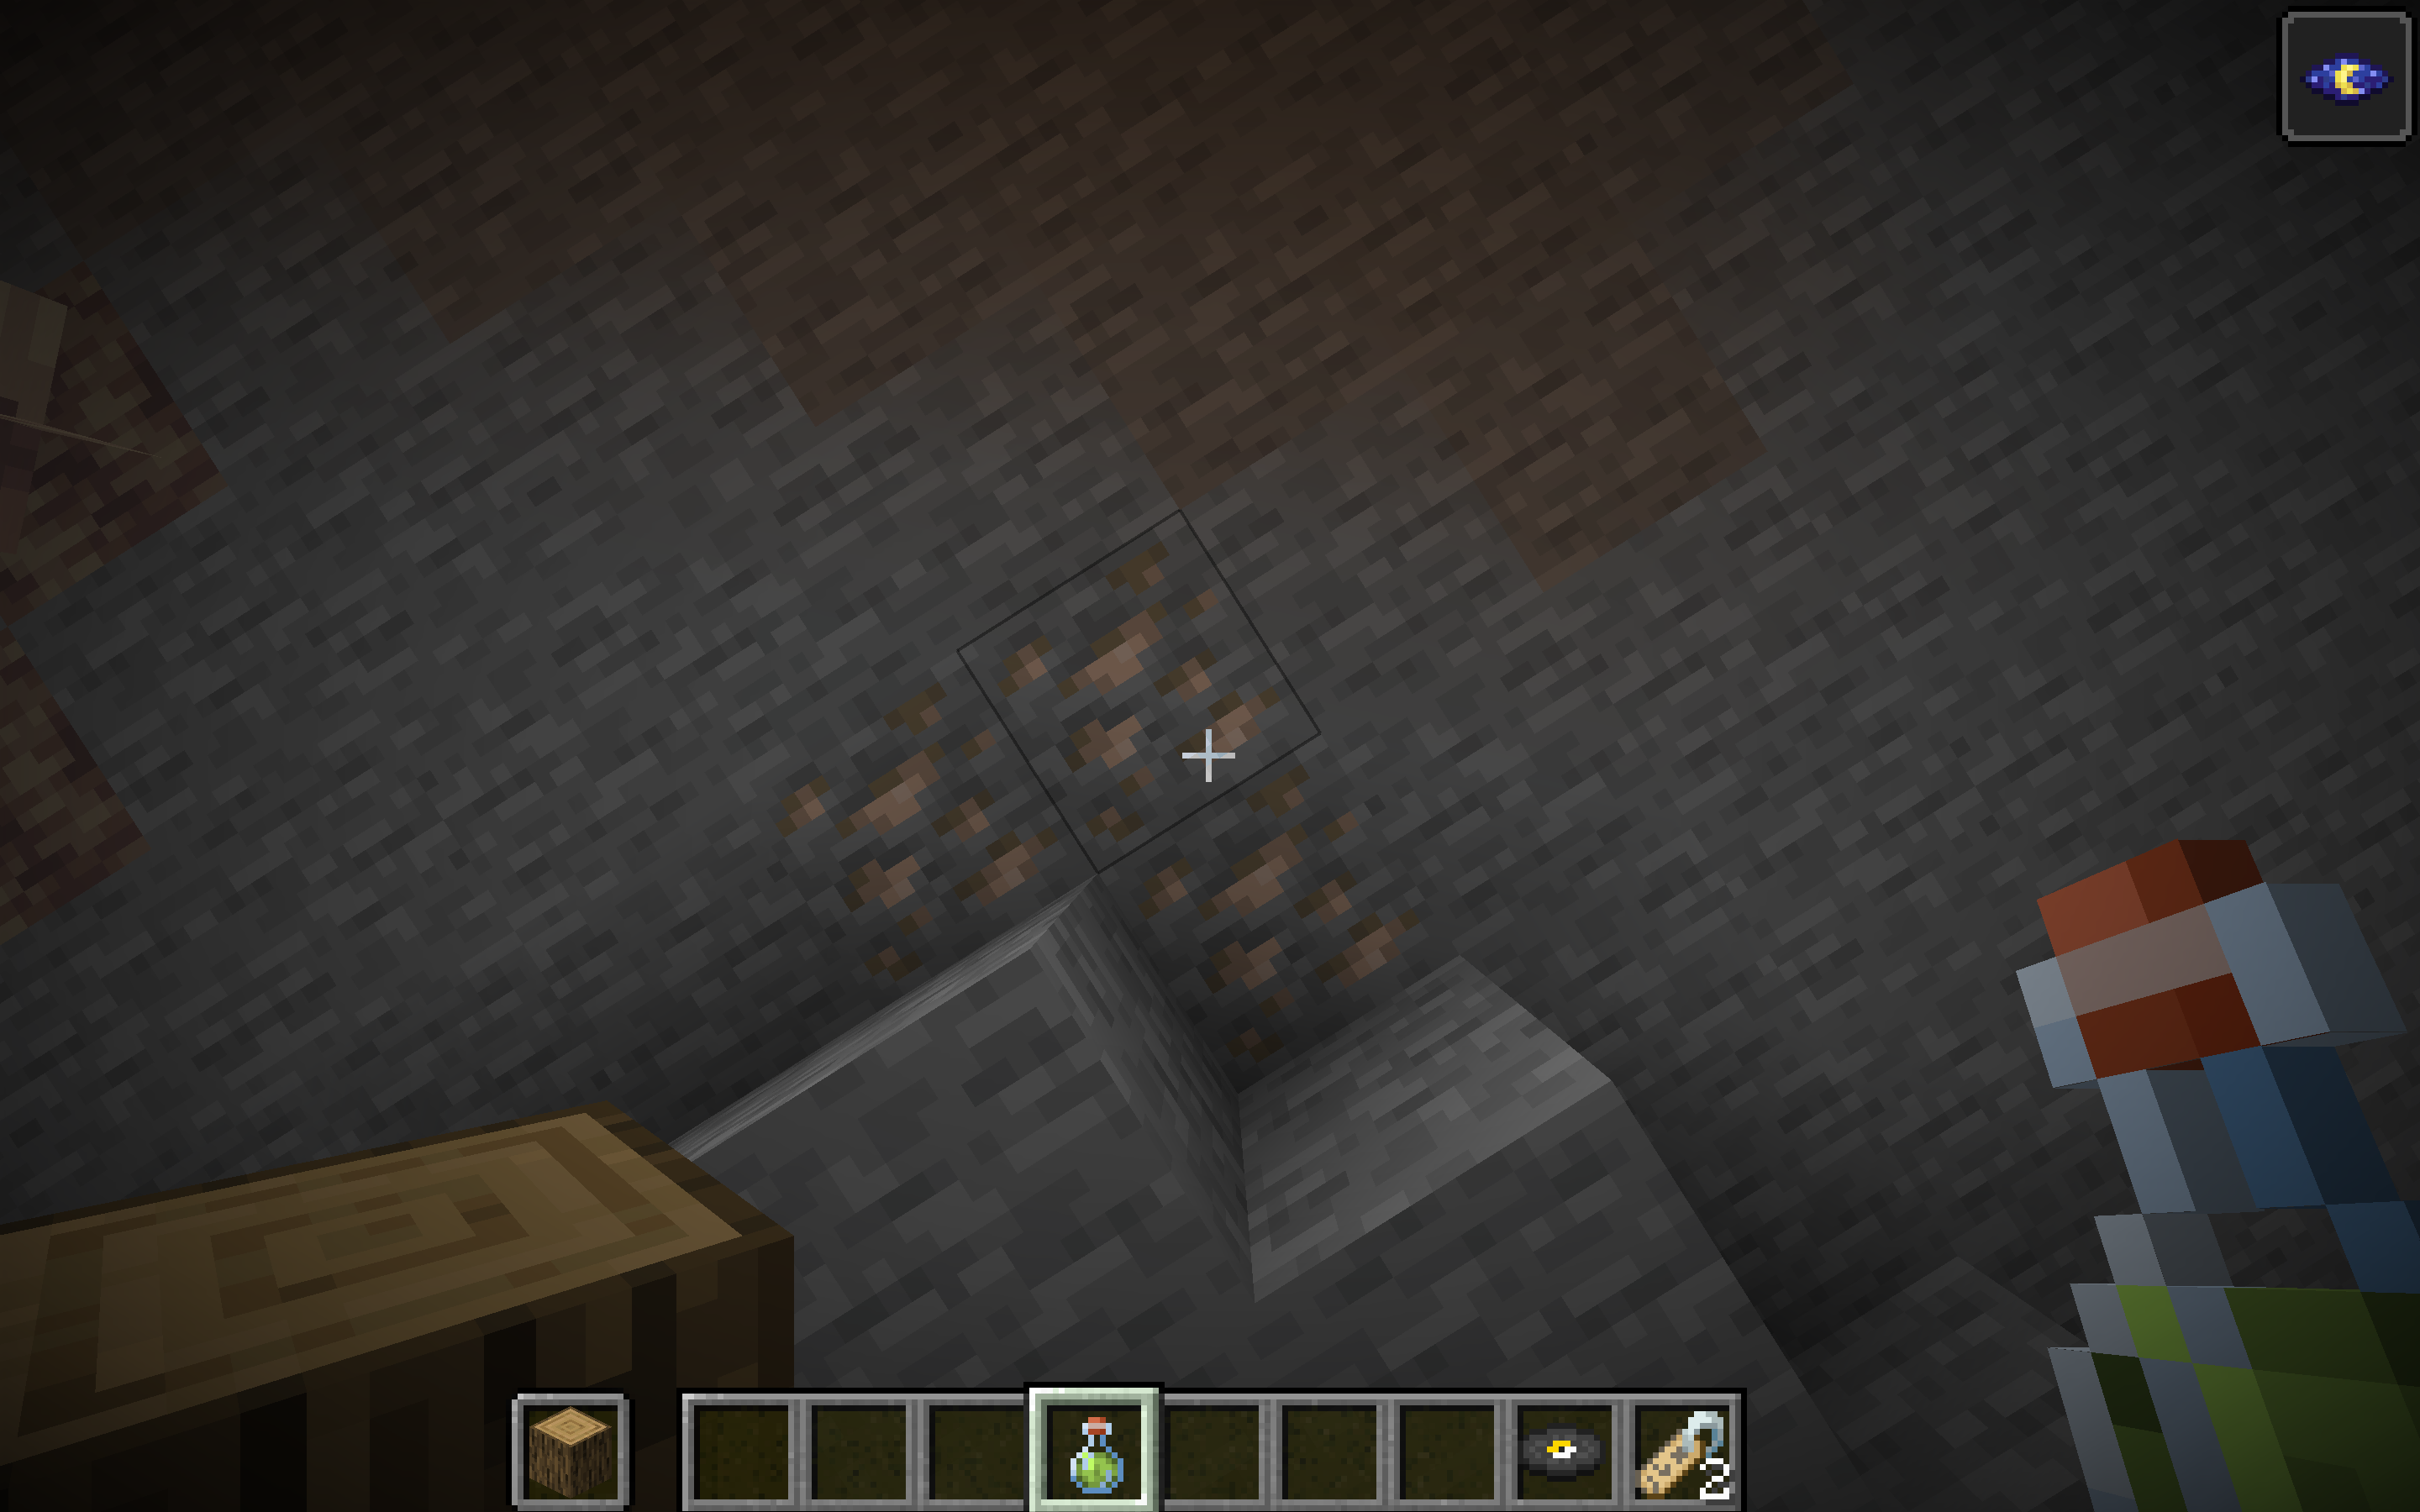iron: (716, 493, 1566, 1136)
